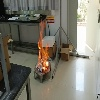fire: (37, 20, 50, 72)
